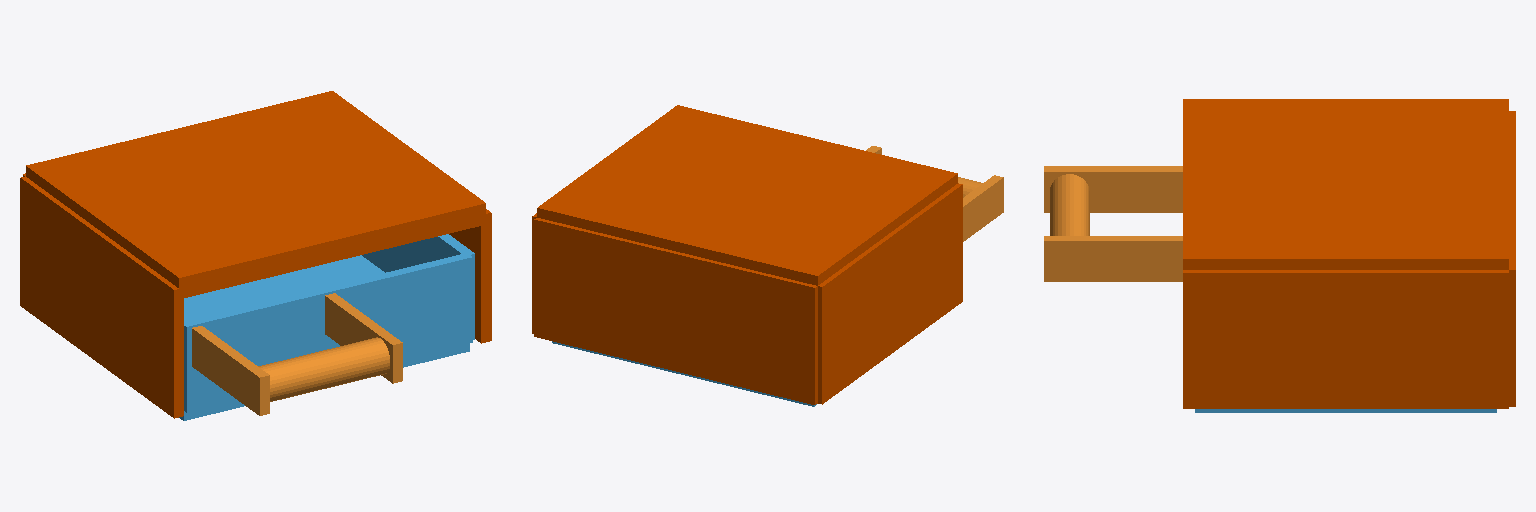
The robot description file, URDF, robot "bowl.urdf":
<?xml version="0.0" ?>
<robot name="bowl.urdf">

  <material name="yellow">
    <color rgba="1 1 0.4 1"/>
  </material>
  <material name="red">
    <color rgba="1 0 0 1"/>
  </material>
  <material name="blue">
    <color rgba=".17 .20 .38 1"/>
  </material>
  <material name="teal">
    <color rgba="0 .5 .5 1"/>
  </material>
  <material name="orange">
    <color rgba=".93 .6 .23 1"/>
  </material>

  <link name="world"/>

  <link name="base">
    <contact>
      <rolling_friction value="10.0"/>
      <lateral_friction value="10.0"/>
      <spinning_friction value="10.0"/>
    </contact>
    <inertial>
      <origin rpy="0 0 0" xyz="0.0 0.0 0.0"/>
       <mass value="0.1"/>
       <inertia ixx="1" ixy="0" ixz="0" iyy="1" iyz="0" izz="1"/>
    </inertial>
    <visual>
      <origin rpy="0 0 0" xyz="0 0 -0.2"/>
      <geometry>
        <box size="1.4 1.2 .1"/>
      </geometry>
    </visual>
    <visual>
      <!-- right -->
      <origin rpy="0 0 0" xyz="0 -.6 0"/>
      <geometry>
        <box size="1.4 .05 0.4"/>
      </geometry>
    </visual>
    <visual>
      <!-- left -->
      <origin rpy="0 0 0" xyz="0 .6 0"/>
      <geometry>
        <box size="1.4 .05 0.4"/>
      </geometry>
    </visual>
    <visual>
      <!-- front -->
      <origin rpy="0 0 0" xyz=".7 0 0"/>
      <geometry>
        <box size=".05 1.2 0.4"/>
      </geometry>
    </visual>
    <visual>
      <!-- back -->
      <origin rpy="0 0 0" xyz="-.7 0 0"/>
      <geometry>
        <box size=".05 1.2 0.4"/>
      </geometry>
    </visual>

    <collision>
      <!--Bottom --> 
      <origin rpy="0 0 0" xyz="0 0 -.2"/>
      <geometry>
        <box size="1.4 1.2 .1"/>
      </geometry>
    </collision>
    <collision>
      <!-- right -->
      <origin rpy="0 0 0" xyz="0 -.6 0"/>
      <geometry>
        <box size="1.4 .05 0.4"/>
      </geometry>
    </collision>
    <collision>
      <!-- left -->
      <origin rpy="0 0 0" xyz="0 .6 0"/>
      <geometry>
        <box size="1.4 .05 0.4"/>
      </geometry>
    </collision>
    <collision>
      <!-- front -->
      <origin rpy="0 0 0" xyz=".7 0 0"/>
      <geometry>
        <box size=".05 1.2 0.4"/>
      </geometry>
    </collision>
    <collision>
      <!-- back -->
      <origin rpy="0 0 0" xyz="-.7 0 0"/>
      <geometry>
        <box size=".05 1.2 0.4"/>
      </geometry>
    </collision>
  </link>

  <link name="handle_r">
    <contact>
      <rolling_friction value="1000.0"/>
      <lateral_friction value="1000.0"/>
      <!-- lateral_friction was key to not making the gripper slide on the handle--> 
      <spinning_friction value="1000.0"/>
      <contact_cfm value="0.0"/>
      <contact_erp value="1.0"/>
    </contact>
    <inertial>
      <origin rpy="0 1.57 0" xyz="0 0 0"/>
      <mass value=".1"/>
      <inertia ixx="1" ixy="0" ixz="0" iyy="1" iyz="0" izz="1"/>
    </inertial>
    <visual>
      <origin rpy="0 1.57 0" xyz="0 0 0"/>
      <geometry>
        <cylinder radius="0.08" length="0.7"/>
      </geometry>
      <material name="orange"/>
    </visual>
    <collision>
      <origin rpy="0 1.57 0" xyz="0 0 0"/>
      <geometry>
        <cylinder radius="0.08" length="0.7"/>
      </geometry>
    </collision>
  </link>

  <link name="handle_plate_far">
    <contact>
      <rolling_friction value="1000.0"/>
      <lateral_friction value="1000.0"/>
      <spinning_friction value="1000.0"/>
      <contact_cfm value="0.0"/>
      <contact_erp value="1.0"/>
    </contact>
    <inertial>
      <origin rpy="0 1.57 0" xyz="0 0 0"/>
      <mass value=".1"/>
      <inertia ixx="1" ixy="0" ixz="0" iyy="1" iyz="0" izz="1"/>
    </inertial>
    <visual>
      <origin rpy="0 0 0" xyz="0 0 0"/>
      <geometry>
        <box size=".05 .6 .18"/>
      </geometry>
      <material name="orange"/>
    </visual>
    <collision>
      <origin rpy="0 0 0" xyz="0 0 0"/>
      <geometry>
        <box size=".05 .6 .18"/>
      </geometry>
    </collision>
  </link>

  <link name="handle_plate_near">
    <contact>
      <rolling_friction value="1000.0"/>
      <lateral_friction value="1000.0"/>
      <spinning_friction value="1000.0"/>
      <contact_cfm value="0.0"/>
      <contact_erp value="1.0"/>
    </contact>
    <inertial>
      <origin rpy="0 1.57 0" xyz="0 0 0"/>
      <mass value=".1"/>
      <inertia ixx="1" ixy="0" ixz="0" iyy="1" iyz="0" izz="1"/>
    </inertial>
    <visual>
      <origin rpy="0 0 0" xyz="0 0 0"/>
      <geometry>
        <box size=".05 .6 .18"/>
      </geometry>
      <material name="orange"/>
    </visual>
    <collision>
      <origin rpy="0 0 0" xyz="0 0 0"/>
      <geometry>
        <box size=".05 .6 .18"/>
      </geometry>
    </collision>
  </link>

  <link name="frame">
    <contact>
      <lateral_friction value="0.5"/>
      <rolling_friction value="0.0"/>
      <contact_cfm value="0.0"/>
      <contact_erp value="1.0"/>
    </contact>
    <inertial>
      <origin rpy="0 0 0" xyz="0.0 0.0 0.0"/>
       <mass value=".1"/>
       <inertia ixx="1" ixy="0" ixz="0" iyy="1" iyz="0" izz="1"/>
    </inertial>
    <visual>
      <!--Top-->
      <origin rpy="0 0 0" xyz="0 0 .3"/>
      <geometry>
        <box size="1.5 1.3 .1"/>
      </geometry>
    </visual>
    <visual>
      <!--Right-->
      <origin rpy="0 0 0" xyz="0 .65 0"/>
      <geometry>
        <box size="1.5 .05 .6"/>
      </geometry>
    </visual>
    <visual>
      <!--Front-->
      <origin rpy="0 0 0" xyz=".75 0 0"/>
      <geometry>
        <box size=".05 1.3 .6"/>
      </geometry>
    </visual>
    <visual>
      <!--Back-->
      <origin rpy="0 0 0" xyz="-.75 0 0"/>
      <geometry>
        <box size=".05 1.3 .6"/>
      </geometry>
    </visual>

    <collision>
      <!--Top-->
      <origin rpy="0 0 0" xyz="0 0 .3"/>
      <geometry>
        <box size="1.5 1.3 .1"/>
      </geometry>
    </collision>
    <collision>
      <!--Right-->
      <origin rpy="0 0 0" xyz="0 .65 0"/>
      <geometry>
        <box size="1.5 .05 .6"/>
      </geometry>
    </collision>
    <collision>
      <!--Front-->
      <origin rpy="0 0 0" xyz=".75 0 0"/>
      <geometry>
        <box size=".05 1.3 .6"/>
      </geometry>
    </collision>
    <collision>
      <!--Back-->
      <origin rpy="0 0 0" xyz="-.75 0 0"/>
      <geometry>
        <box size=".05 1.3 .6"/>
      </geometry>
    </collision>
  </link>

  <joint name="frame_joint" type="fixed">
    <parent link="world"/>
    <child link="frame"/>
  </joint>

  <joint name="base_frame_joint" type="prismatic">
    <origin rpy="0 0 0" xyz="0 0 -.1"/>
    <parent link="frame"/>
    <child link="base"/>
    <axis rpy="0 0 0" xyz="0 1 0"/>
    <limit effort="100" lower="-1.25" upper="0" velocity="100"/>
    <dynamics damping="0.0" friction=".01"/>
  </joint>

  <joint name="handle_plate_far_joint" type="fixed">
    <origin rpy="0 0 0" xyz="-0.65 -0.9 0.1"/>
    <parent link="base"/>
    <child link="handle_plate_far"/>
  </joint>

  <joint name="handle_plate_near_joint" type="fixed">
    <origin rpy="0 0 0" xyz="0 -0.9 0.1"/>
    <parent link="base"/>
    <child link="handle_plate_near"/>
  </joint>

  <joint name="handle_r_joint" type="fixed">
    <origin rpy="0 0 0" xyz="-0.325 -1.1 0.1"/>
    <parent link="base"/>
    <child link="handle_r"/>
  </joint>

</robot>

--- What the picture shows (computed from the rendered views, not written in the file) ---
The picture shows the robot from 3 angles, left to right: view 1: azimuth 30°, elevation 25°; view 2: azimuth 150°, elevation 25°; view 3: azimuth 270°, elevation 25°; orthographic projection.
Robot: bowl.urdf — 6 links, 5 joints (1 prismatic, 4 fixed); root link world; default pose: every joint at zero.
Links seen in each view (by area): view 1: frame, base, handle_r, handle_plate_far, handle_plate_near; view 2: frame, handle_plate_far; view 3: frame, handle_plate_near, handle_plate_far, handle_r, base.
Link boxes in pixels (x1,y1,x2,y2): frame: (20,91,491,418); base: (179,234,474,420); handle_r: (238,337,389,401); handle_plate_far: (192,326,269,415); handle_plate_near: (325,293,402,383); frame: (532,105,962,404); handle_plate_far: (963,175,1003,241); frame: (1183,99,1515,408); handle_plate_near: (1044,236,1182,281); handle_plate_far: (1044,166,1182,212); handle_r: (1050,174,1089,278); base: (1195,409,1496,412).
Size in the robot's own frame: 1.55 by 1.88 by 0.7 metres.
Geometry: primitives only (box / cylinder / sphere), no mesh files.